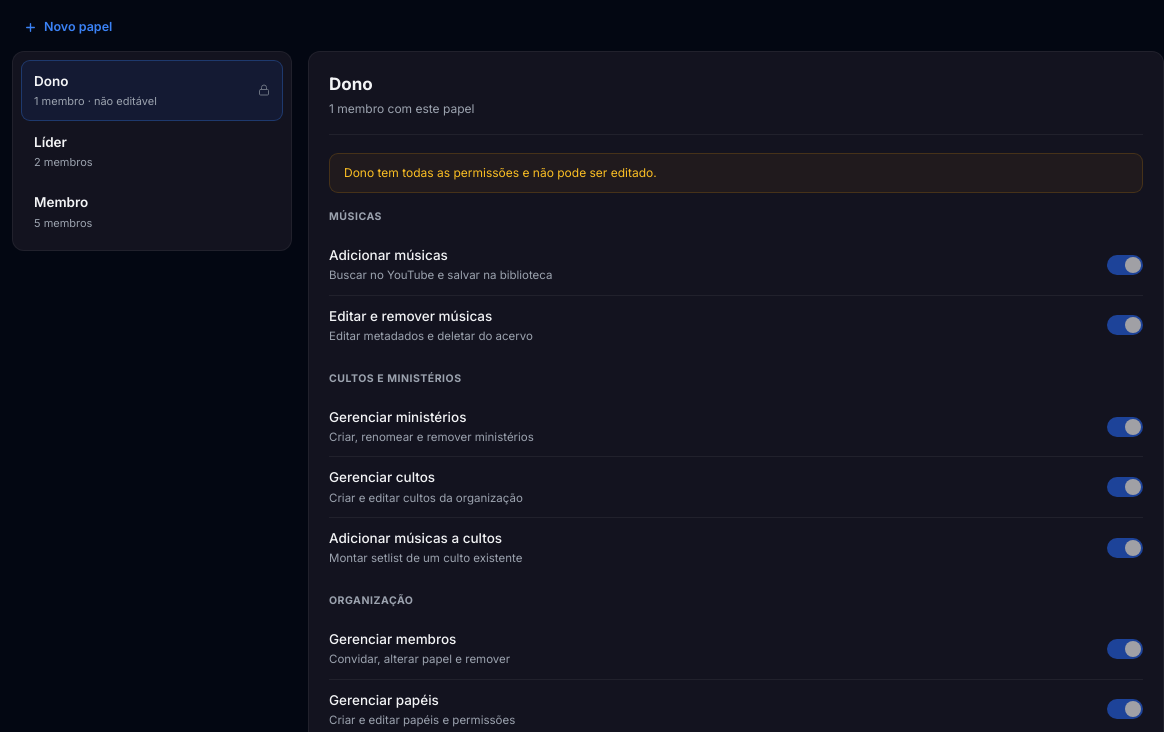
Test case: OrgRoles › selecionar outro papel exibe botões Renomear e Deletar
The image size is (1164, 732).
Click the text "Líder": (50, 142) [34,134,67,150]
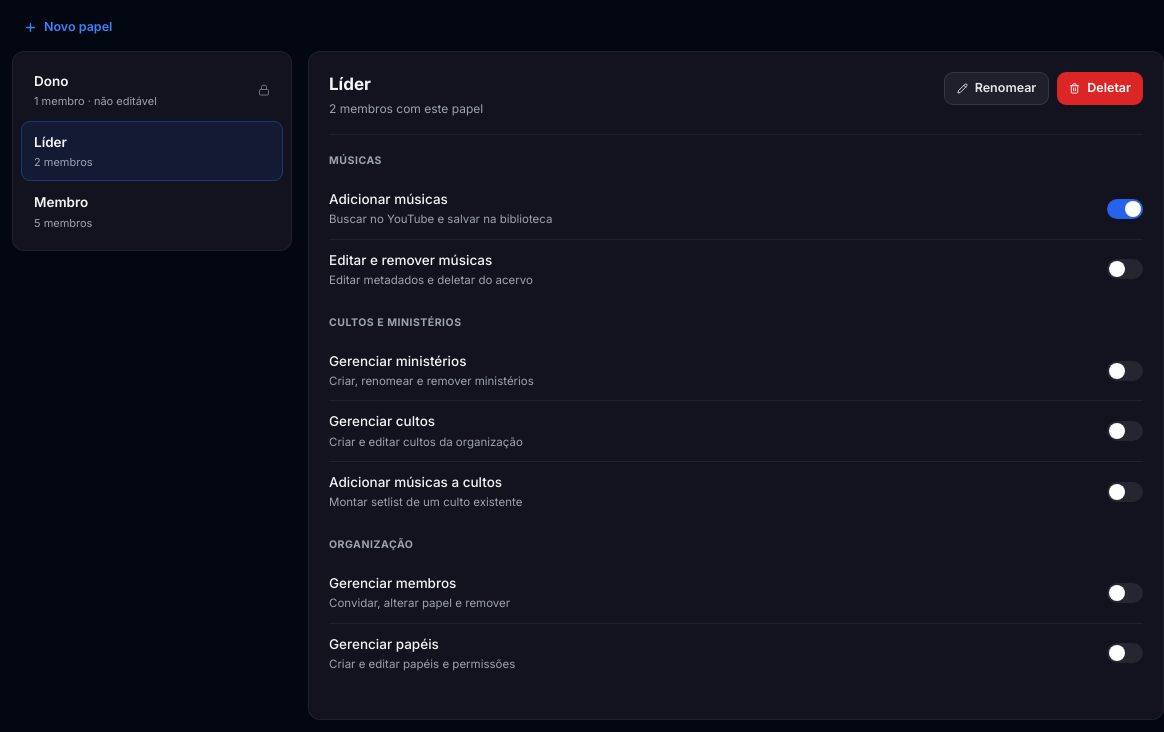
Result: the button "Renomear" is shown at [944,72,1049,105]
Result: the button "Deletar" is shown at [1057,72,1143,105]
